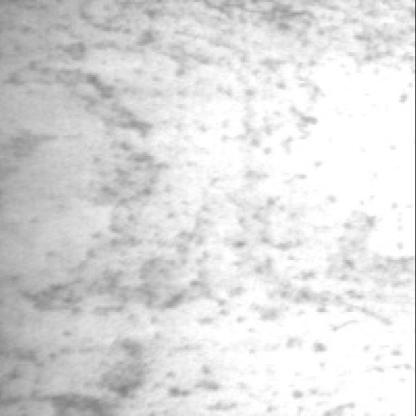pitted_surface: (25, 0, 392, 410)
